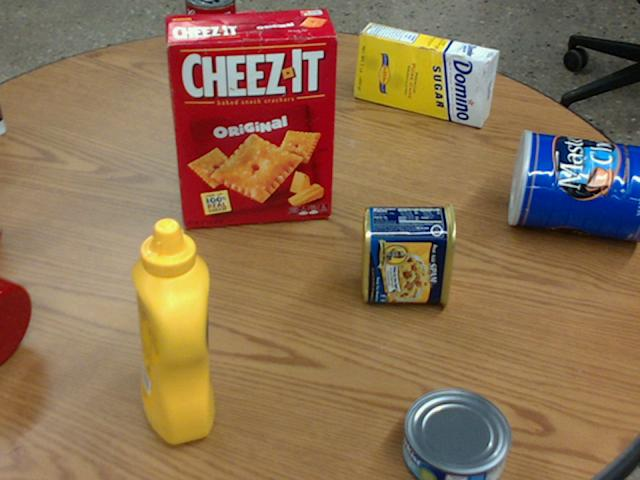cracker_box: (164, 10, 337, 227)
gelatin_box: (0, 219, 1, 236)
large_marker: (0, 104, 5, 134)
master_chef_can: (507, 129, 639, 241)
mug: (0, 274, 32, 364)
mustard_bottle: (130, 217, 213, 442)
potted_meat_can: (361, 202, 455, 306)
sugar_box: (355, 22, 500, 126)
tomato_soup_can: (186, 0, 238, 75)
tuna_fish_can: (401, 388, 508, 479)
